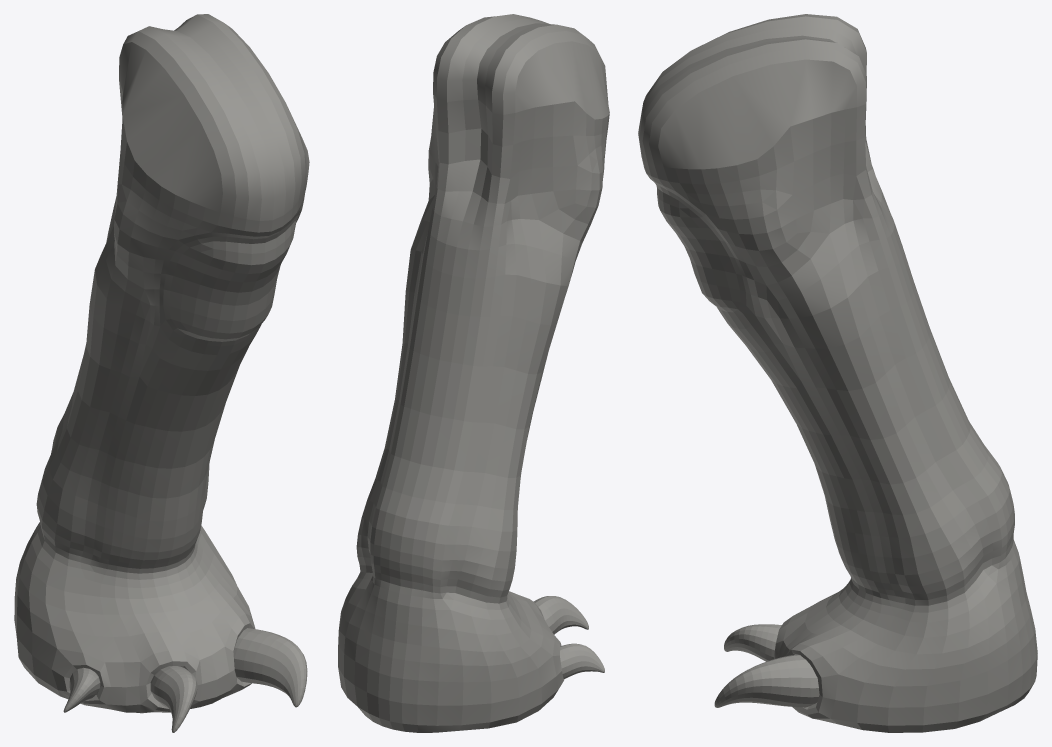
File: pieIzq2.obj
3 renders of one model, left to right at view 1: azimuth 30°, elevation 25°; view 2: azimuth 150°, elevation 25°; view 3: azimuth 270°, elevation 25°, orthographic. The views are drawn at different scales.
Parts seen in each view (by area): view 1: polySurface164; view 2: polySurface164; view 3: polySurface164.
Part boxes in pixels (bbox=[...]): polySurface164: bbox=[14, 14, 309, 732]; polySurface164: bbox=[338, 14, 609, 732]; polySurface164: bbox=[638, 14, 1037, 732].
Bounding box in the file's own units: 0.8596 × 2.52 × 1.38.
Materials: 2 (2 with a texture image).
